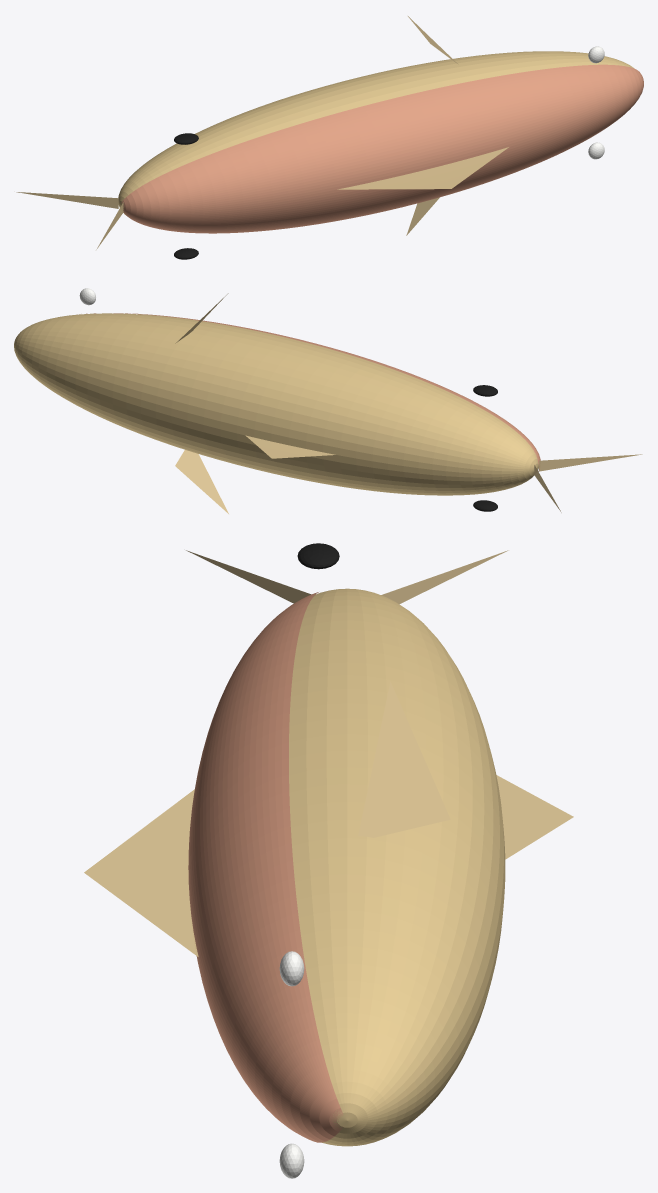
File: red_drum_redfish_approx.glb
3 renders of one model, top to bottom at view 1: azimuth 30°, elevation 25°; view 2: azimuth 150°, elevation 25°; view 3: azimuth 270°, elevation 25°, orthographic. The views are drawn at different scales.
Parts seen in each view (by area): view 1: red_bronze_back, red_drum_body, dorsal_fin, tail, pectoral_fin_right; view 2: red_drum_body, red_bronze_back, pectoral_fin_right, anal_fin, tail; view 3: red_drum_body, red_bronze_back, dorsal_fin, pectoral_fin_left, anal_fin, tail, redfish_black_tail_spot_1.
Boxes of the visible parts, x1,y1,x2,y2 form: red_bronze_back: (121,64,643,233); red_drum_body: (118,51,634,215); dorsal_fin: (337,147,508,189); tail: (16,192,123,249); pectoral_fin_right: (406,197,439,235); red_drum_body: (14,313,538,495); red_bronze_back: (86,313,540,471); pectoral_fin_right: (175,450,228,513); anal_fin: (245,435,335,458); tail: (534,454,642,512); red_drum_body: (289,588,505,1146); red_bronze_back: (188,592,343,1142); dorsal_fin: (84,789,198,956); pectoral_fin_left: (358,681,450,837); anal_fin: (496,775,573,859); tail: (186,550,508,604); redfish_black_tail_spot_1: (297,543,339,569).
Bounding box in the file's own units: 2.82 × 1.02 × 1.02.
